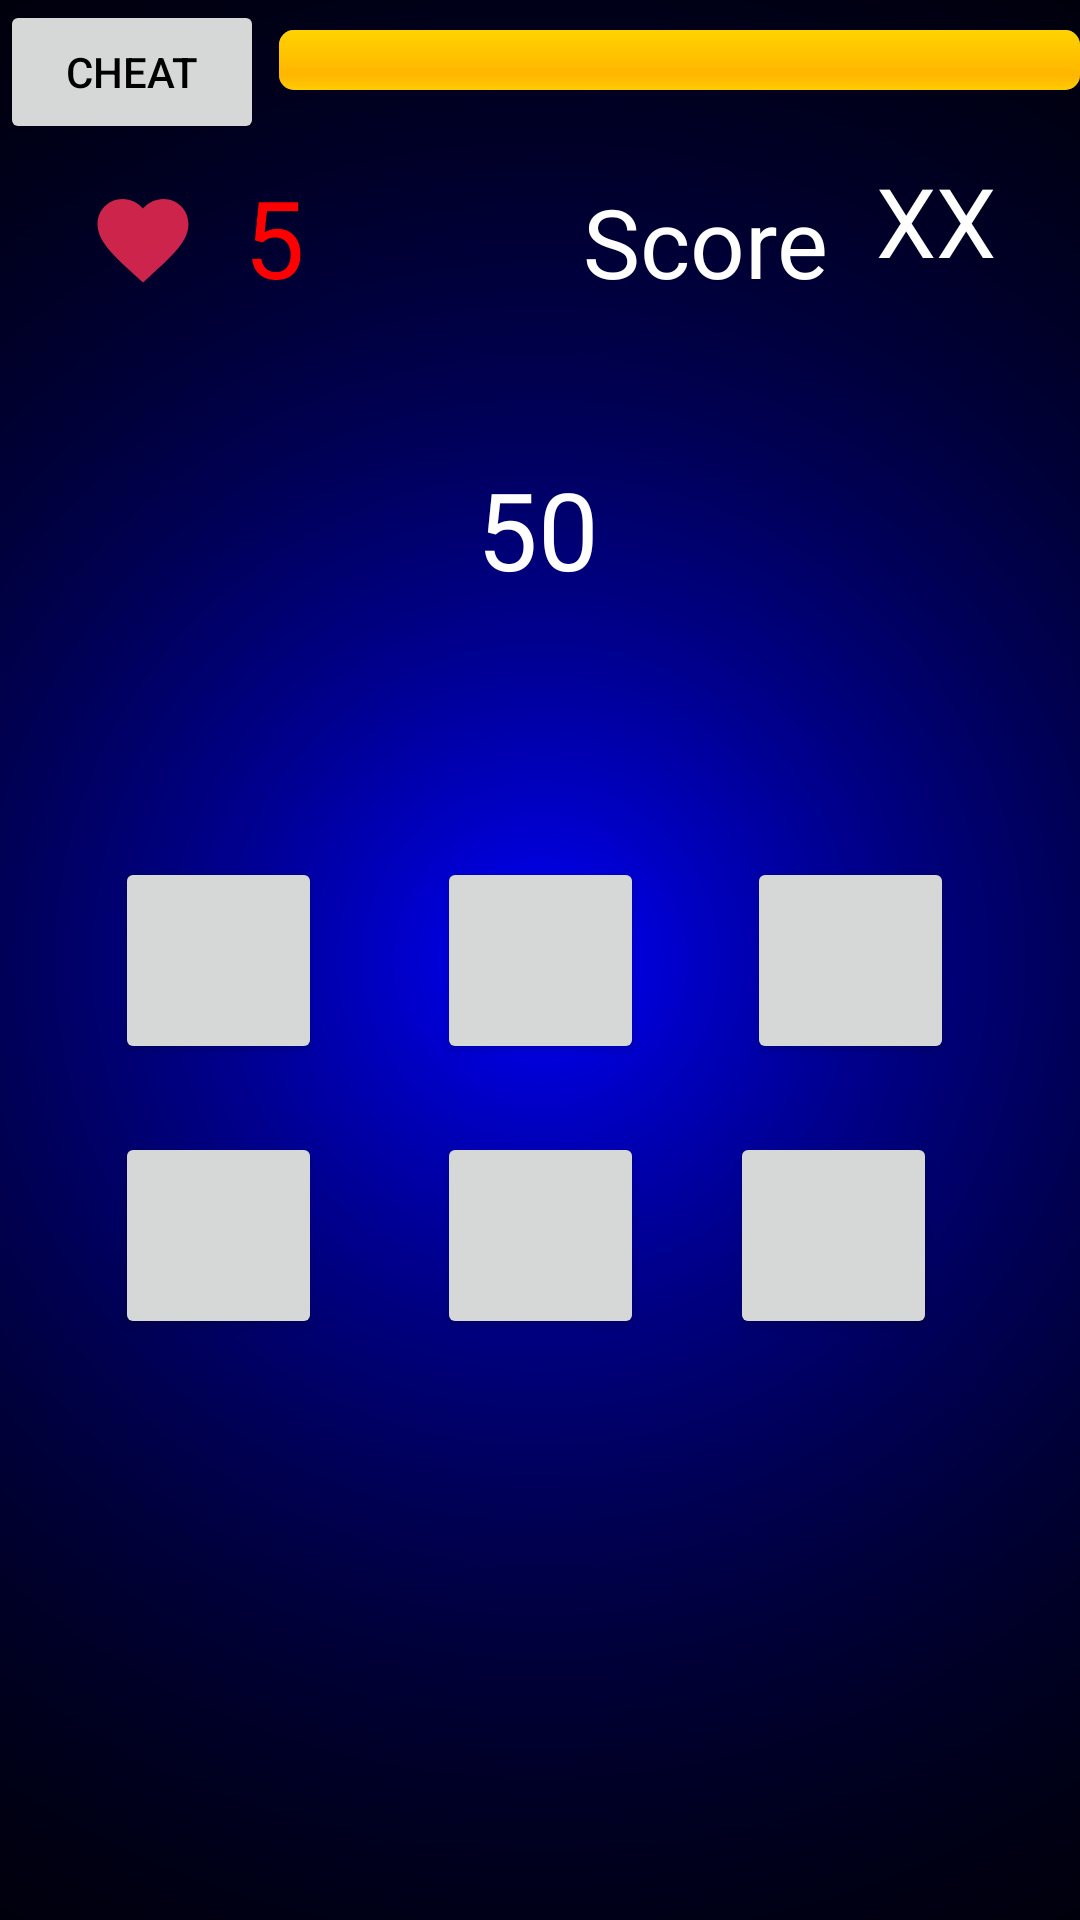

Named icons in this screenshot (1080×1920) and their bounding boxes, box(x1, y1, x2, y2):
lives: box(97, 199, 189, 283)
